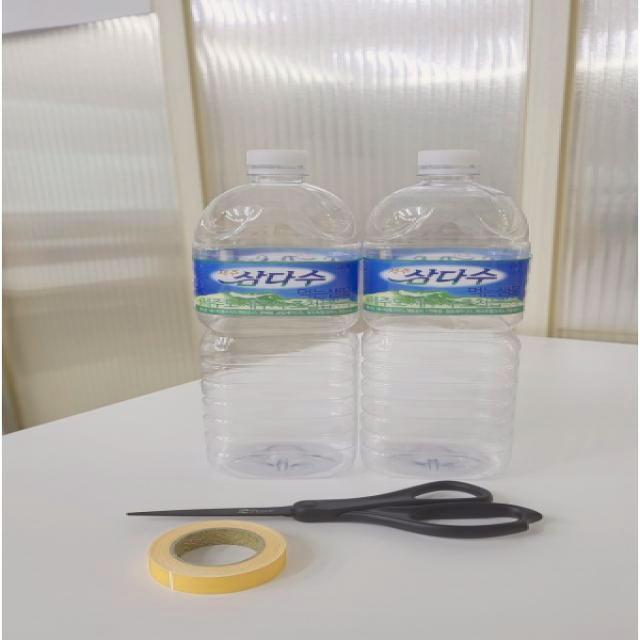bottle: (194, 147, 364, 479), (371, 149, 524, 481)
